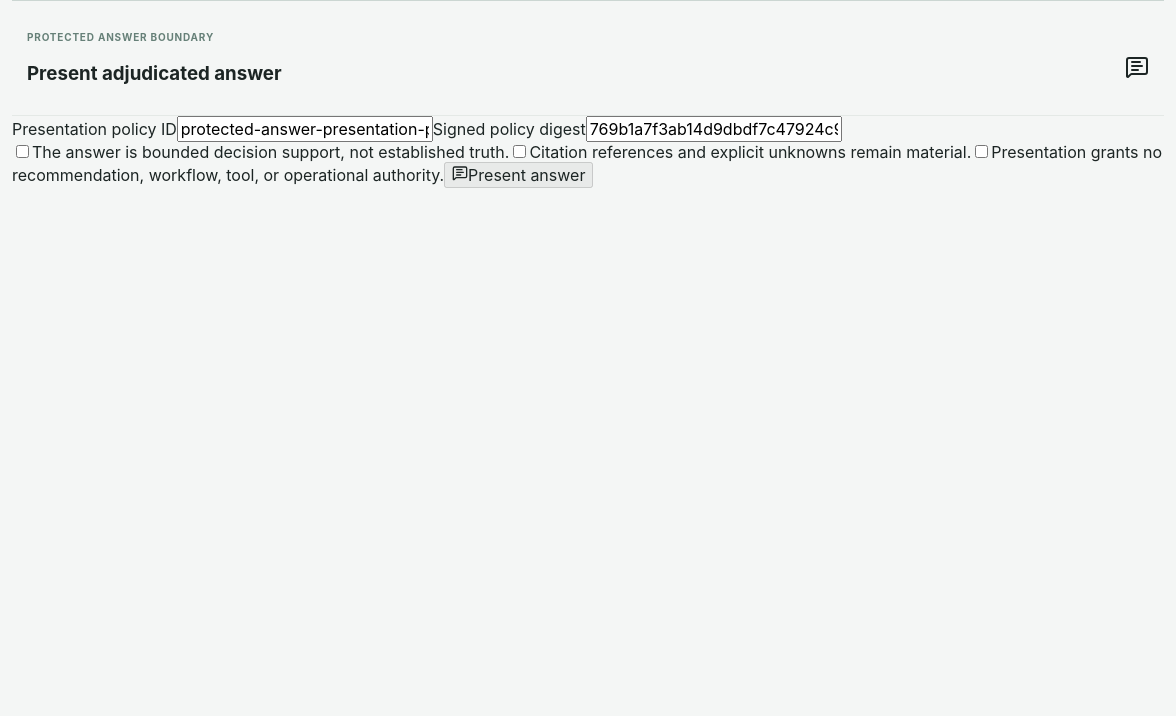
Test: ProtectedAnswerPresentationPanel › presents only an eligible answer and renders inert evidence
Expected: the button "Present answer" is disabled, [444,162,593,188]
Click the checkbox labelled "The answer is bounded decision support, not established truth.". click: click(22, 152)
box: [16,145,29,158]
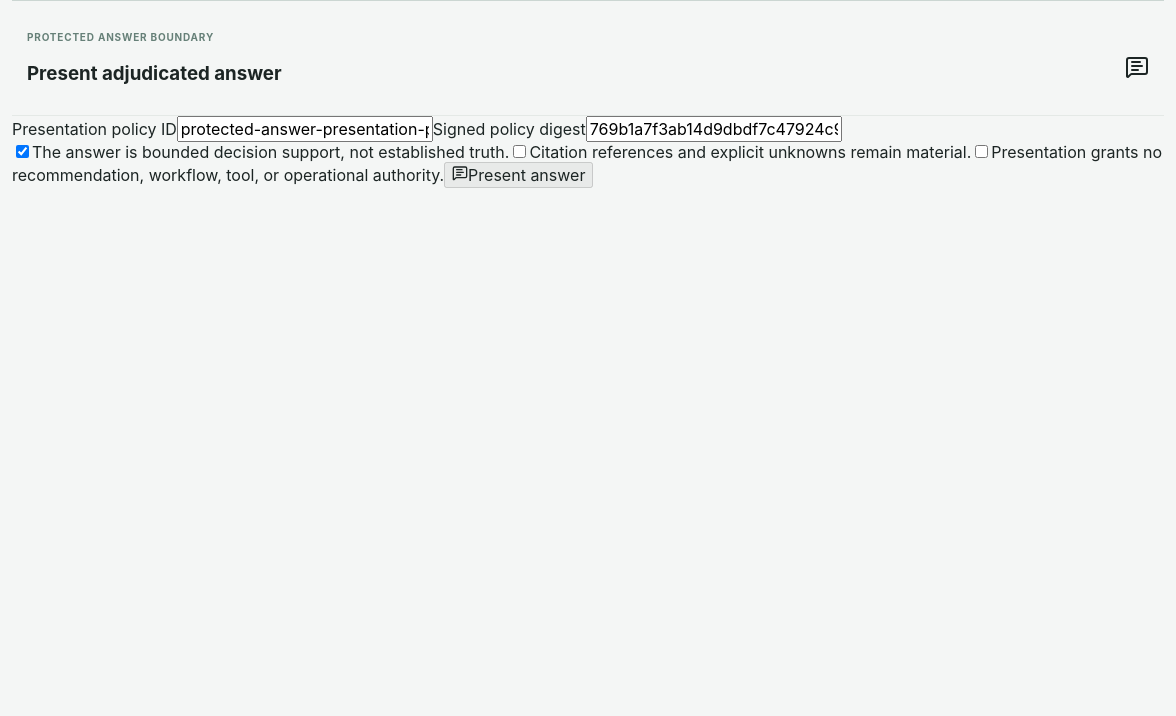
Click the checkbox labelled "Citation references and explicit unknowns remain material.". click: click(520, 152)
box: [513,145,526,158]
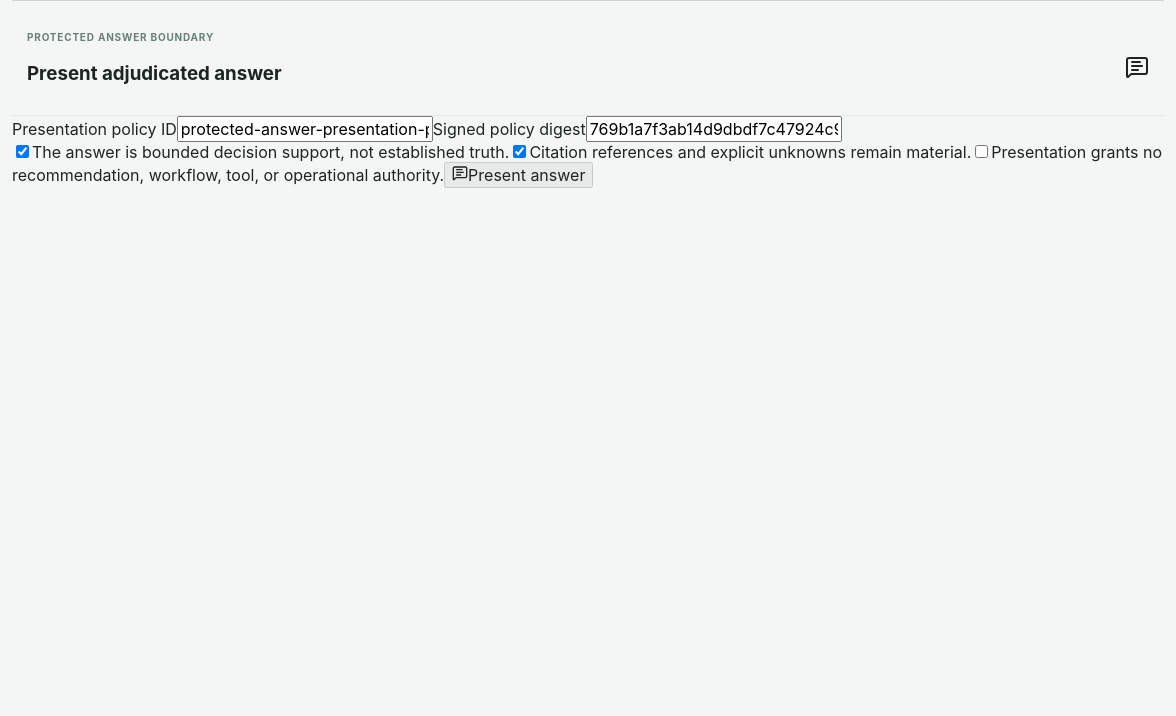
Click the checkbox labelled "Presentation grants no recommendation, workflow, tool, or operational authority.". click: click(982, 152)
box: [975,145,988,158]
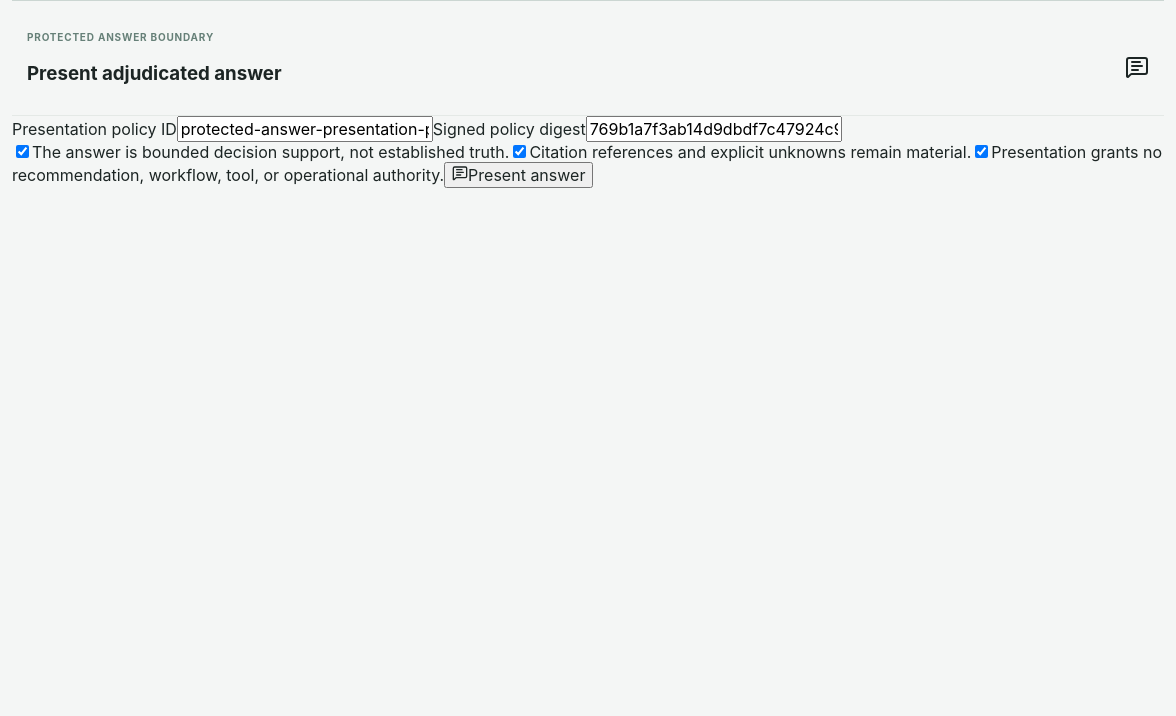
Result: the button "Present answer" is enabled
Click the button "Present answer". click: click(519, 175)
box: [444,162,593,188]
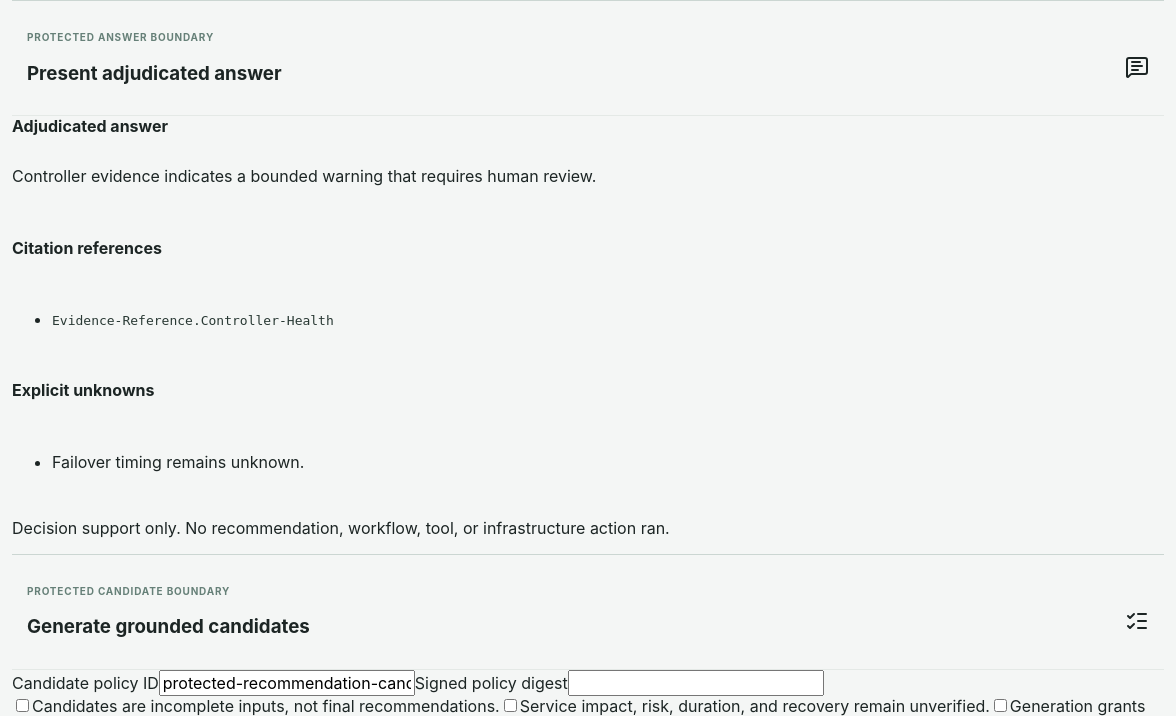
Result: the text "Adjudicated answer" is shown at [12,116,168,136]
Result: the text "Controller evidence indicates a bounded warning that requires human review." is shown at [12,166,596,186]
Result: the text "evidence-reference.controller-health" is shown at [52,313,334,328]
